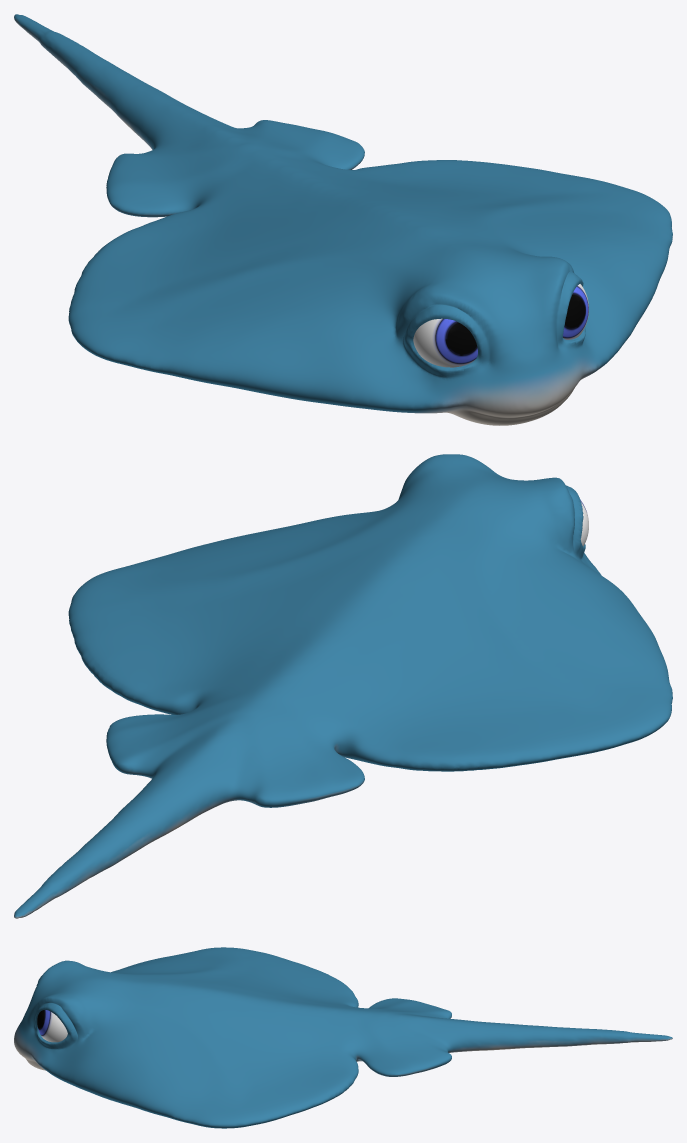
File: Fishes_Little_Ray sting_1_Base.glb
The picture shows the model from 3 angles, top to bottom: view 1: azimuth 30°, elevation 25°; view 2: azimuth 150°, elevation 25°; view 3: azimuth 270°, elevation 25°; orthographic projection. The views are drawn at different scales.
Visible parts, largest first — view 1: Cube.001, Little fish 02 Eyes_Base.003; view 2: Cube.001; view 3: Cube.001, Little fish 02 Eyes_Base.003.
Part boxes in pixels (x1,y1,x2,y2): Cube.001: [14, 14, 672, 425]; Little fish 02 Eyes_Base.003: [413, 284, 588, 367]; Cube.001: [14, 454, 672, 918]; Cube.001: [14, 947, 672, 1128]; Little fish 02 Eyes_Base.003: [37, 1010, 67, 1042].
Bounding box in the file's own units: 1.37 × 0.3193 × 2.16.
